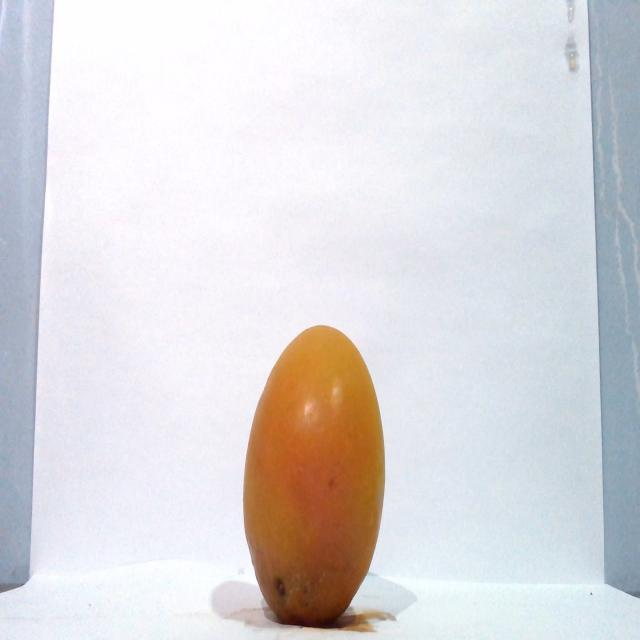Red: (241, 323, 386, 626)
